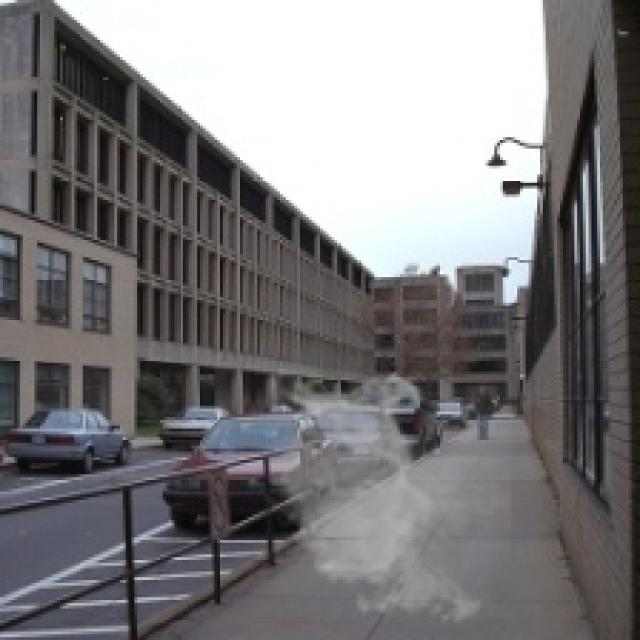smoke: (257, 368, 512, 632)
